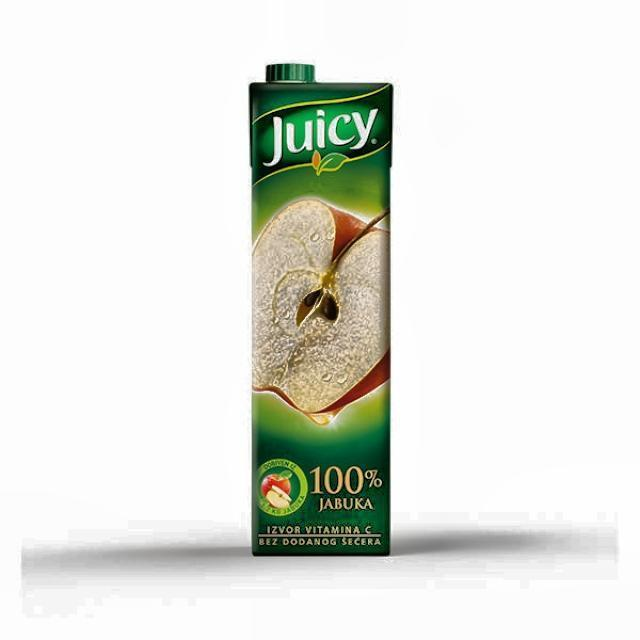cardboard: (248, 63, 392, 556)
